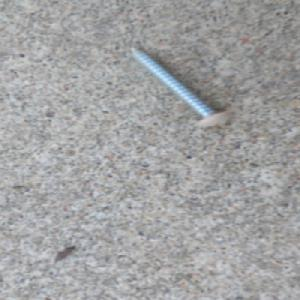Screw: (125, 42, 234, 128)
